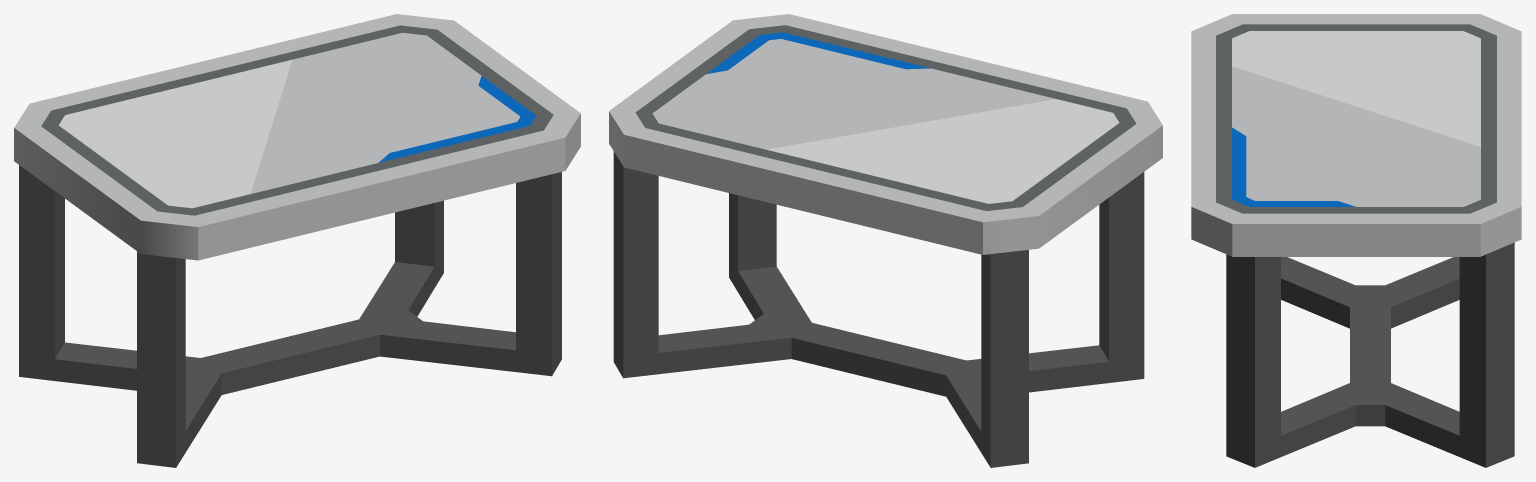
Rendered from Desk_021.fbx.
3 views of the same model, side by side, from view 1: azimuth 30°, elevation 25°; view 2: azimuth 150°, elevation 25°; view 3: azimuth 270°, elevation 25° (orthographic). The views are drawn at different scales.
Visible parts, largest first — view 1: Desk_021; view 2: Desk_021; view 3: Desk_021.
Boxes of the visible parts, x1=… form: Desk_021: x1=14, y1=14, x2=580, y2=467; Desk_021: x1=609, y1=14, x2=1162, y2=467; Desk_021: x1=1191, y1=14, x2=1521, y2=467.
Bounding box in the file's own units: 146 × 96.98 × 80.17.
